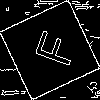F: (25, 25, 78, 69)
